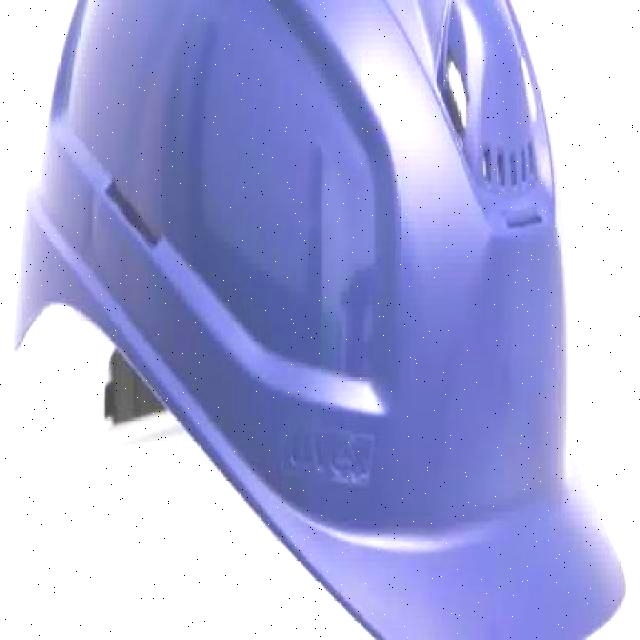Helmet: (7, 0, 629, 638)
